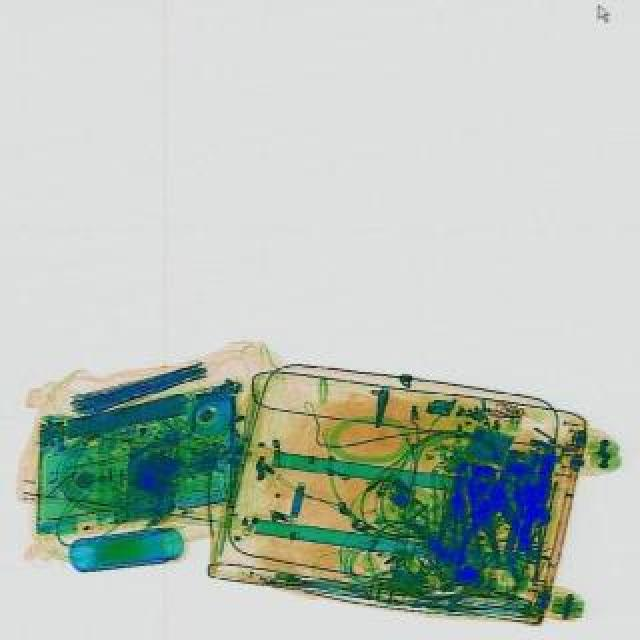wrench: (452, 460, 538, 566)
